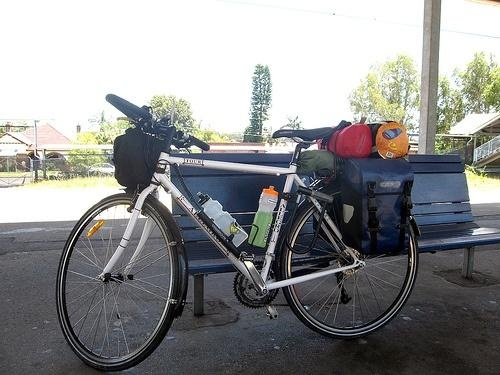bicycle: (56, 92, 422, 374)
